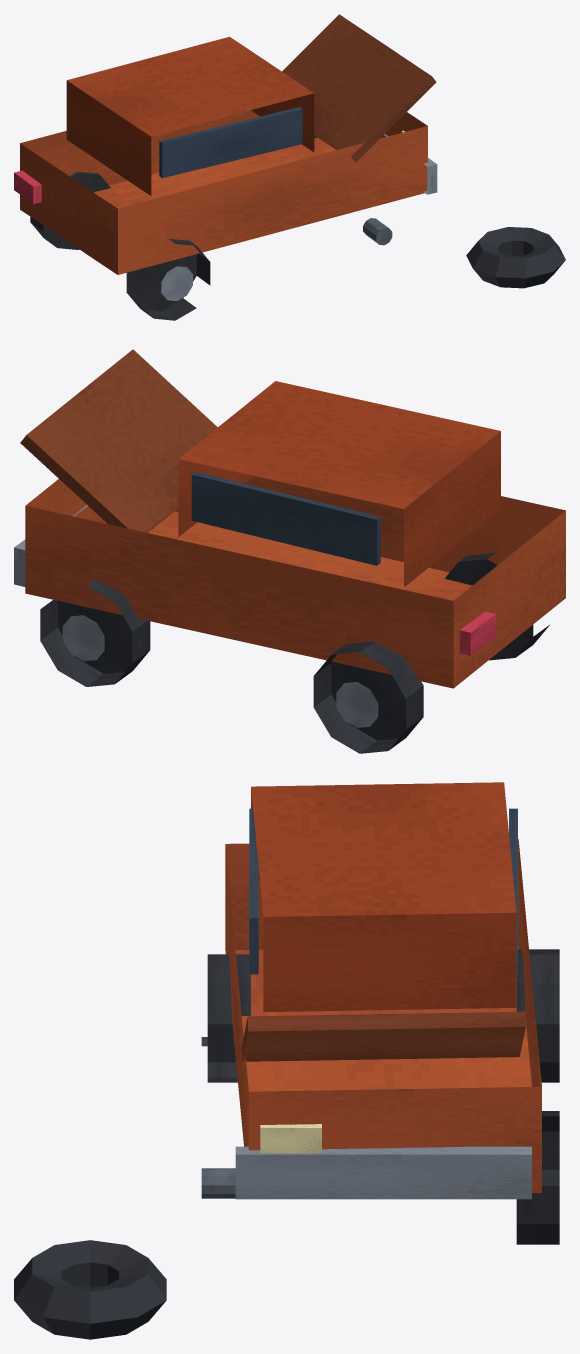
The model's file is prop_wreck_car.glb.
3 views of the same model, one above another, from view 1: azimuth 30°, elevation 25°; view 2: azimuth 150°, elevation 25°; view 3: azimuth 270°, elevation 25° (orthographic). The views are drawn at different scales.
Visible parts, largest first — view 1: prop_wreck_car; view 2: prop_wreck_car; view 3: prop_wreck_car.
Part boxes in pixels (x1,y1,x2,y2): prop_wreck_car: (14, 14, 565, 320); prop_wreck_car: (14, 349, 565, 753); prop_wreck_car: (14, 782, 559, 1339).
Bounding box in the file's own units: 2.49 × 1.01 × 1.79.
1 material, 1 textured.
